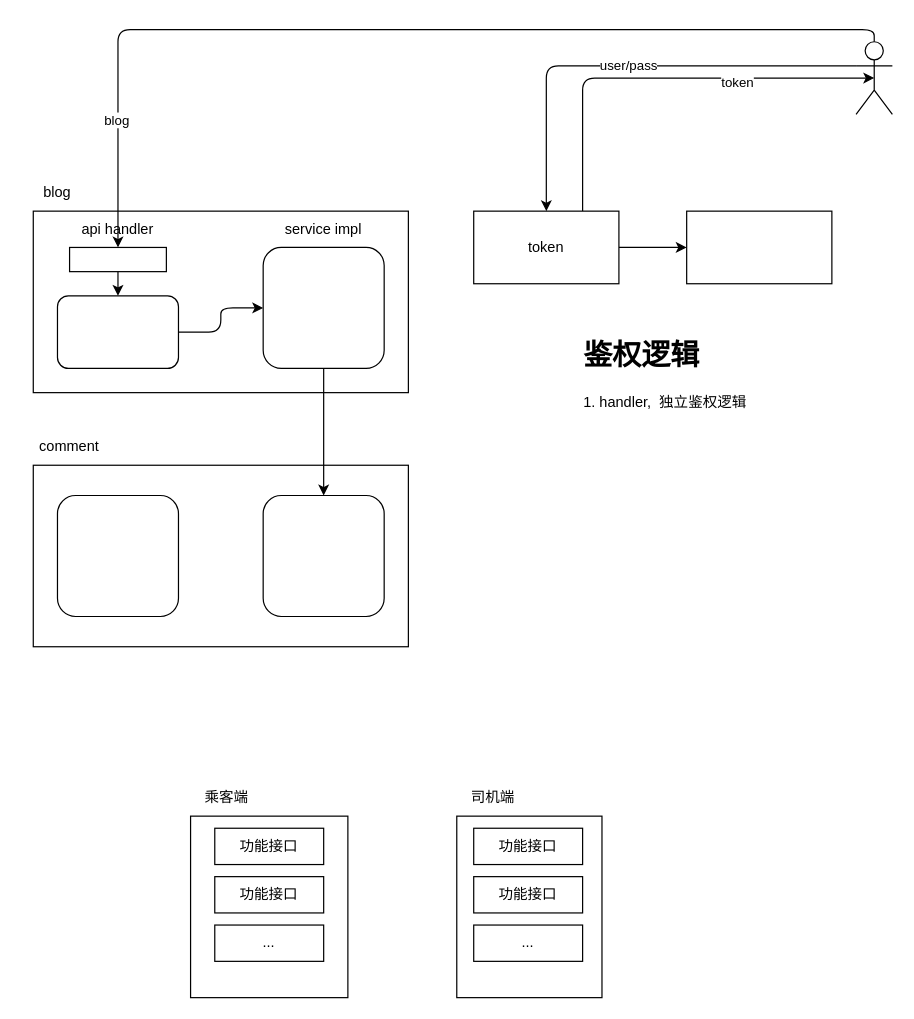
Image size: 914x1019. Some labels were removed from this diagram. The centre of each missing label's shape, as x and y in pixels:
Actor: point (873, 77)
user: point (758, 247)
中间件: point (117, 259)
